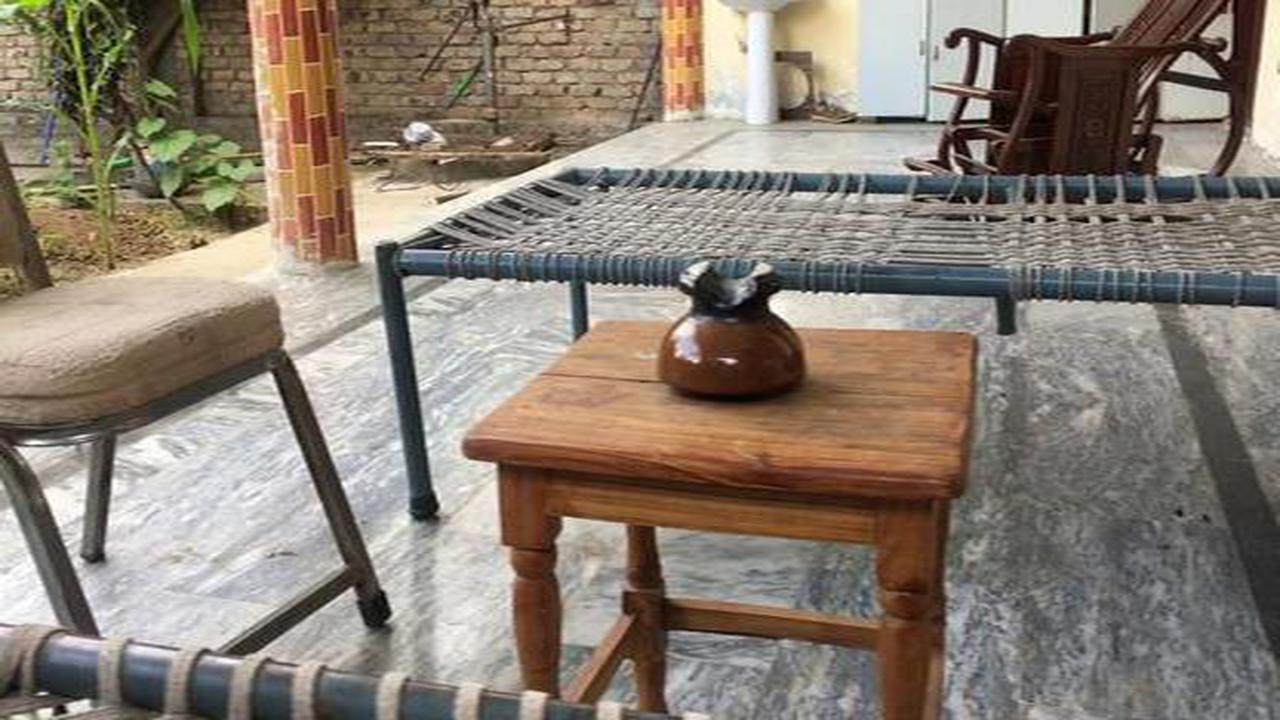insulator_pin: (628, 239, 837, 407)
